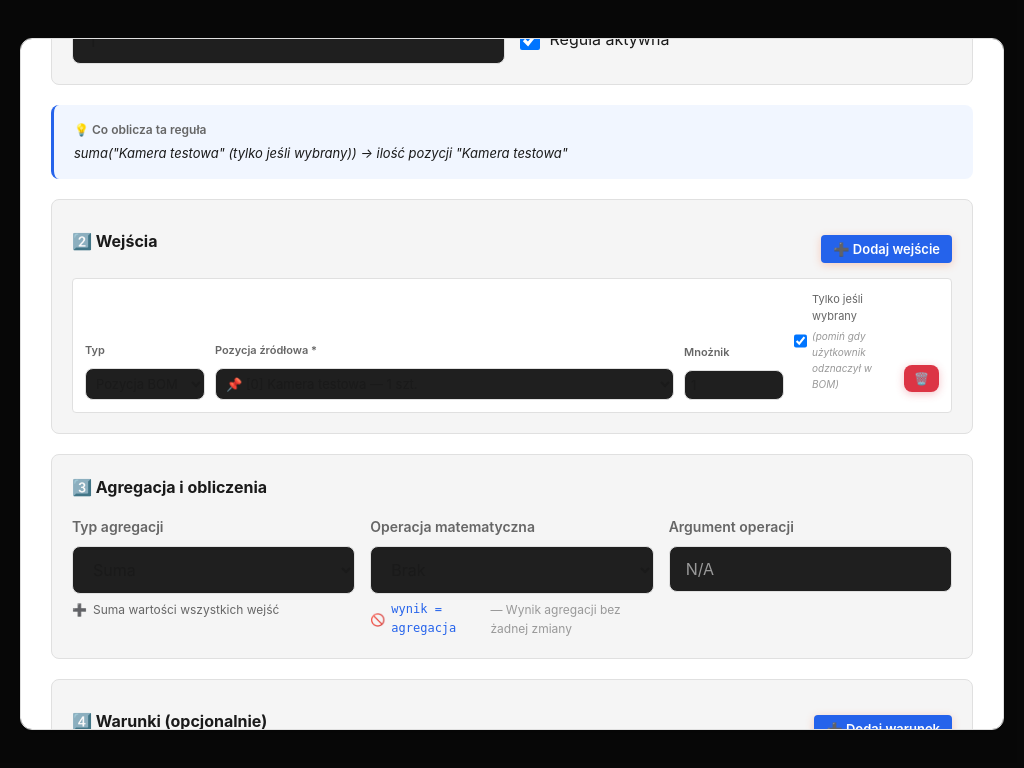
Scenario: TemplateDependencyRuleModal CONFIG_PARAM onlyIfSelected behavior › resets onlyIfSelected when switching input type to CONFIG_PARAM
(page scrolled)
Check: the checkbox with id "onlyIfSelected-0" is checked, box [794,333,807,349]
Select "Parametr Wizarda" in the 1st dropdown: (145, 384) [85,368,205,400]
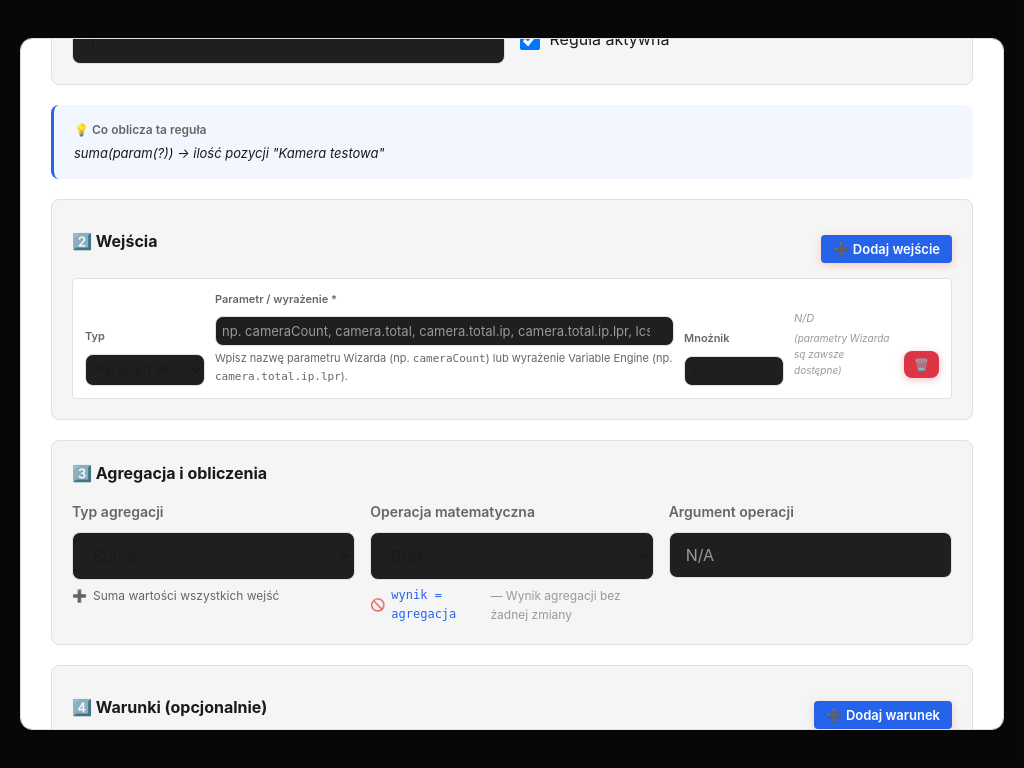
Check: the text "N/D" is shown, box [794,311,814,325]
Select "Pozycja BOM" in the dropdown next to "Wpisz nazwę parametru Wizarda (np.": (145, 370) [85,354,205,386]
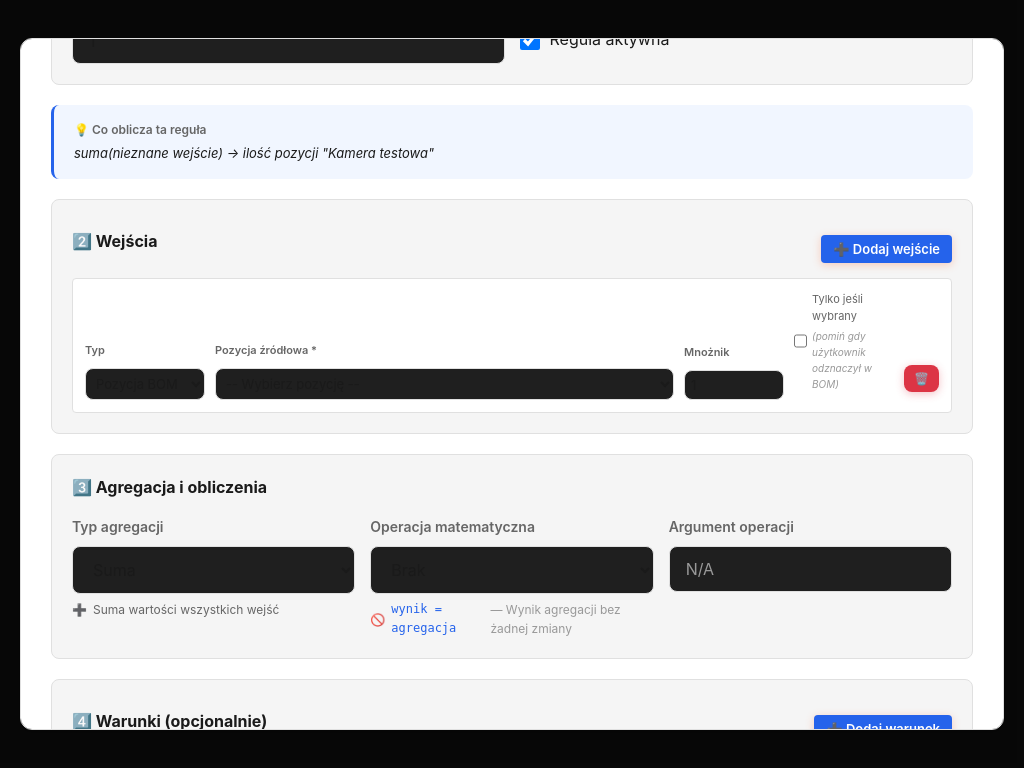
Check: the checkbox with id "onlyIfSelected-0" is not checked, box [794,333,807,349]
